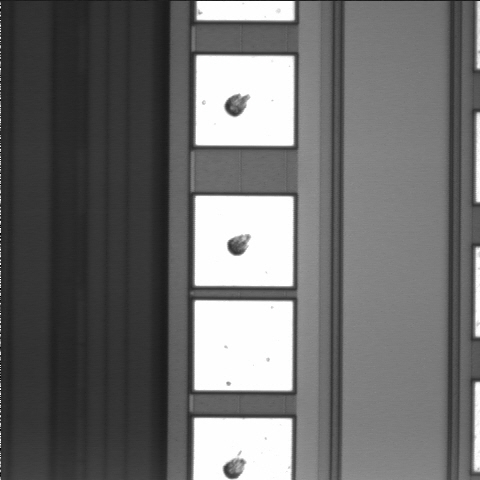pad: (196, 55, 294, 146), (195, 300, 293, 391), (195, 196, 293, 286)
